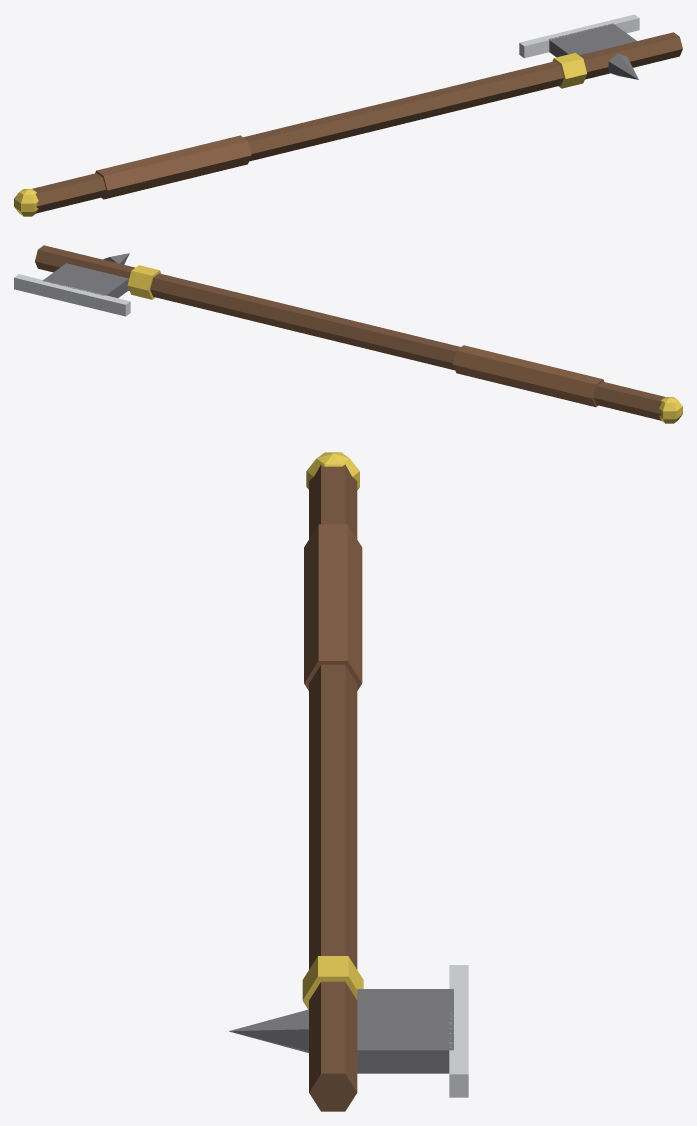
File: long_axe.glb
3 views of the same model, one above another, from view 1: azimuth 30°, elevation 25°; view 2: azimuth 150°, elevation 25°; view 3: azimuth 270°, elevation 25° (orthographic). The views are drawn at different scales.
Parts seen in each view (by area): view 1: long_axe; view 2: long_axe; view 3: long_axe.
Boxes of the visible parts, x1=… form: long_axe: x1=14, y1=14, x2=682, y2=216; long_axe: x1=14, y1=245, x2=682, y2=423; long_axe: x1=229, y1=452, x2=468, y2=1111.
Size of the model in its own units: 0.9 by 0.0344 by 0.1467.
